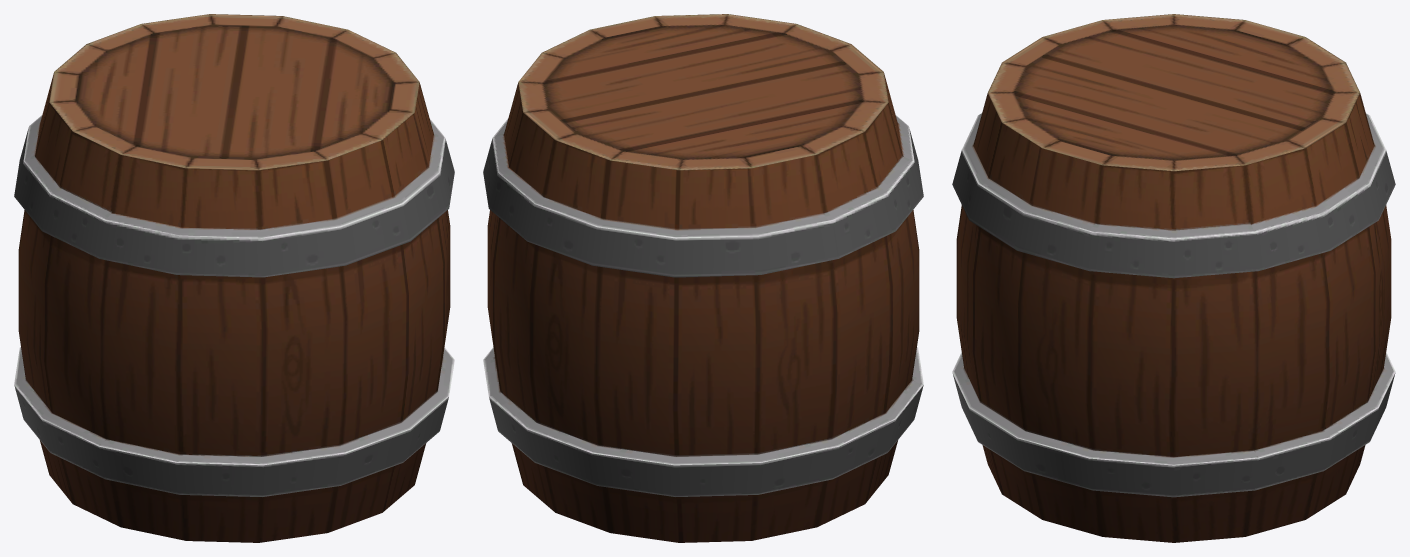
File: Boat_Barrel 1.fbx
3 renders of one model, left to right at view 1: azimuth 30°, elevation 25°; view 2: azimuth 150°, elevation 25°; view 3: azimuth 270°, elevation 25°, orthographic.
Parts seen in each view (by area): view 1: Boat_Barrel 1; view 2: Boat_Barrel 1; view 3: Boat_Barrel 1.
Part boxes in pixels (left/top/right/bottom): Boat_Barrel 1: left=14, top=14, right=454, bottom=542; Boat_Barrel 1: left=483, top=14, right=923, bottom=542; Boat_Barrel 1: left=952, top=14, right=1395, bottom=542.
Size of the model in its own units: 1.15 by 1.07 by 1.15.
Materials: 1 (1 with a texture image).
